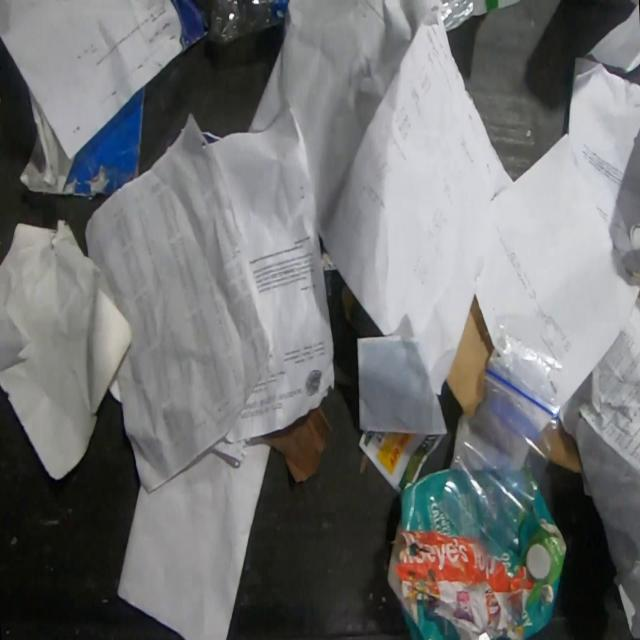cardboard: (385, 466, 568, 640), (17, 83, 146, 198), (444, 291, 494, 420), (550, 416, 583, 474)
soft_plastic: (436, 317, 564, 574), (207, 0, 290, 46), (440, 0, 474, 32)
